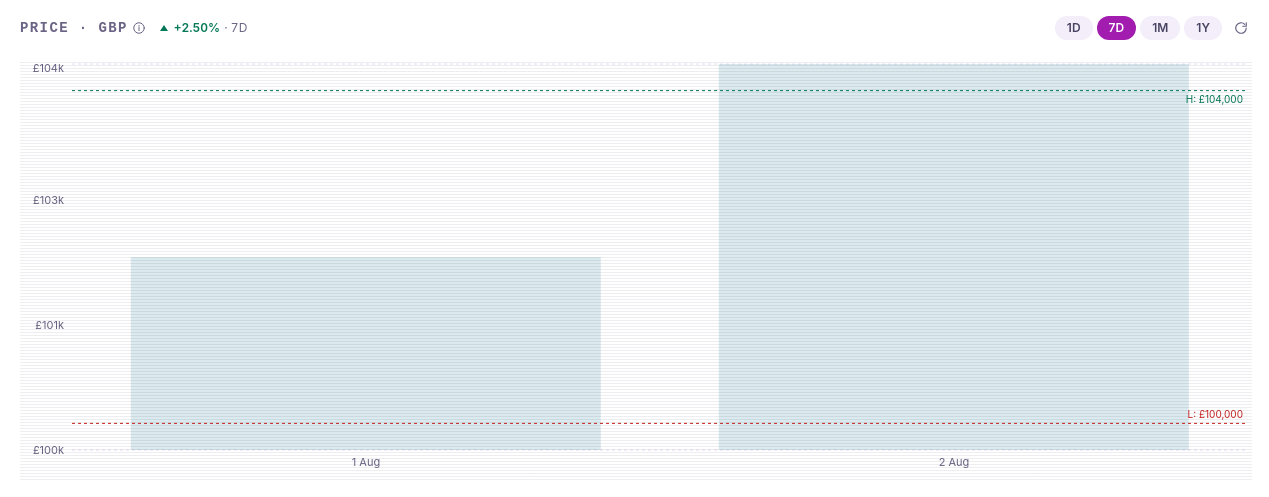
it: PriceChartCard › names the traded pair in the volume caveat
Click the button named "More information" at (139, 28), box [132, 21, 146, 35]
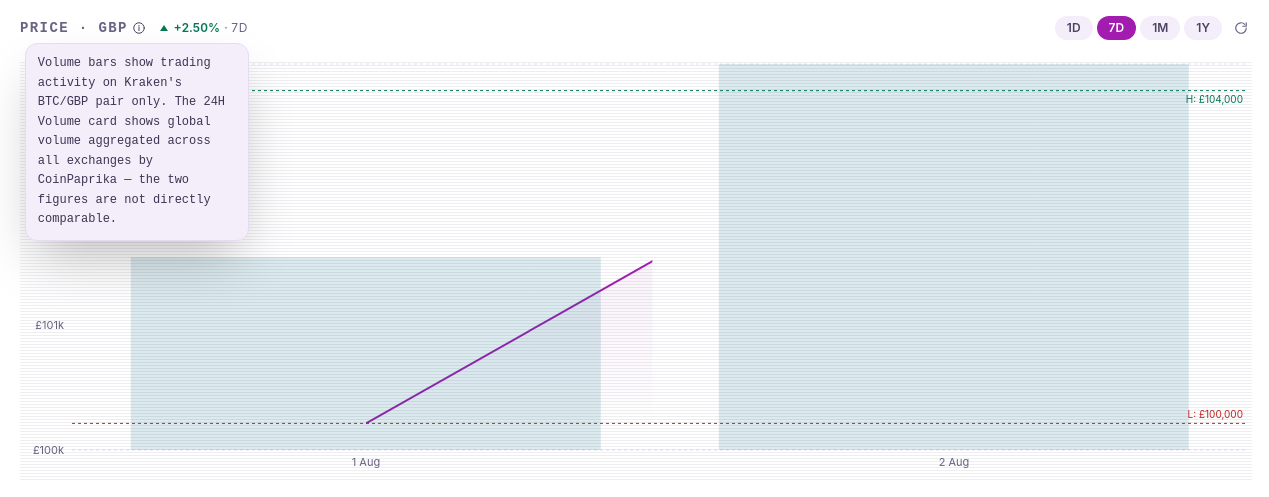
Expected: the text "BTC/GBP pair only" is shown, [38, 56, 225, 226]
